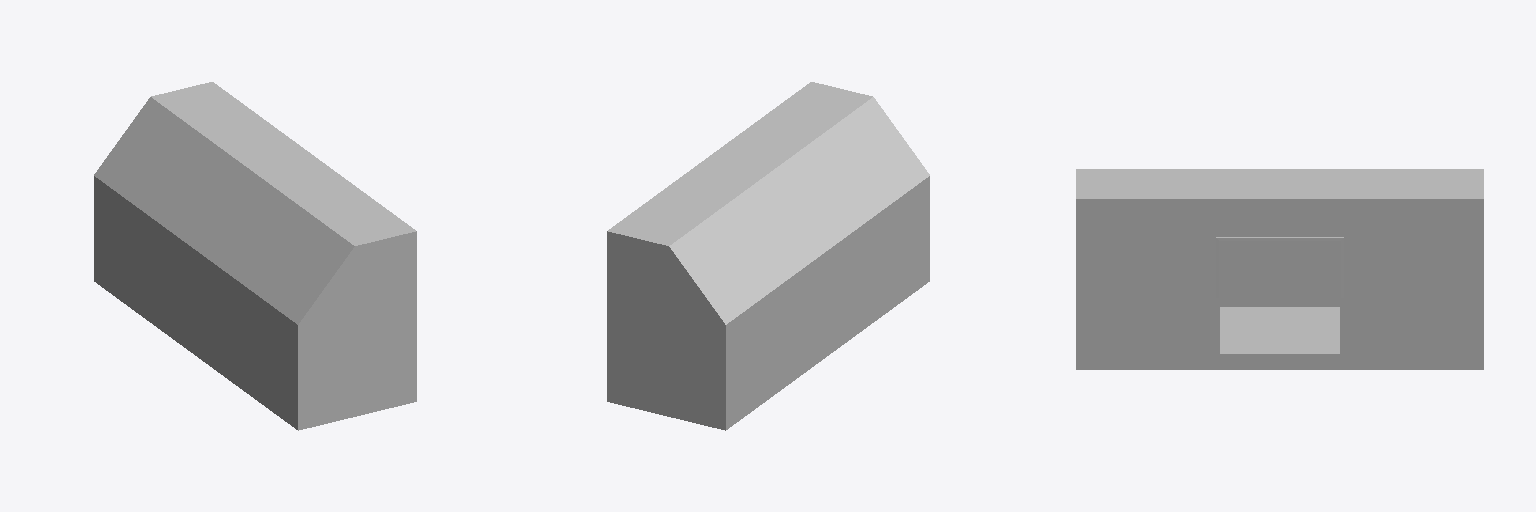
The model's file is goal.obj.
3 renders of one model, left to right at view 1: azimuth 30°, elevation 25°; view 2: azimuth 150°, elevation 25°; view 3: azimuth 270°, elevation 25°, orthographic.
Visible parts, largest first — view 1: Cube; view 2: Cube; view 3: Cube, Cube.002_Cube.005.
Part boxes in pixels (x1,y1,x2,y2): Cube: (94, 82, 416, 430); Cube: (607, 82, 929, 430); Cube: (1076, 169, 1483, 369); Cube.002_Cube.005: (1216, 237, 1343, 297).
Bounding box in the file's own units: 29.92 × 40.55 × 88.09.